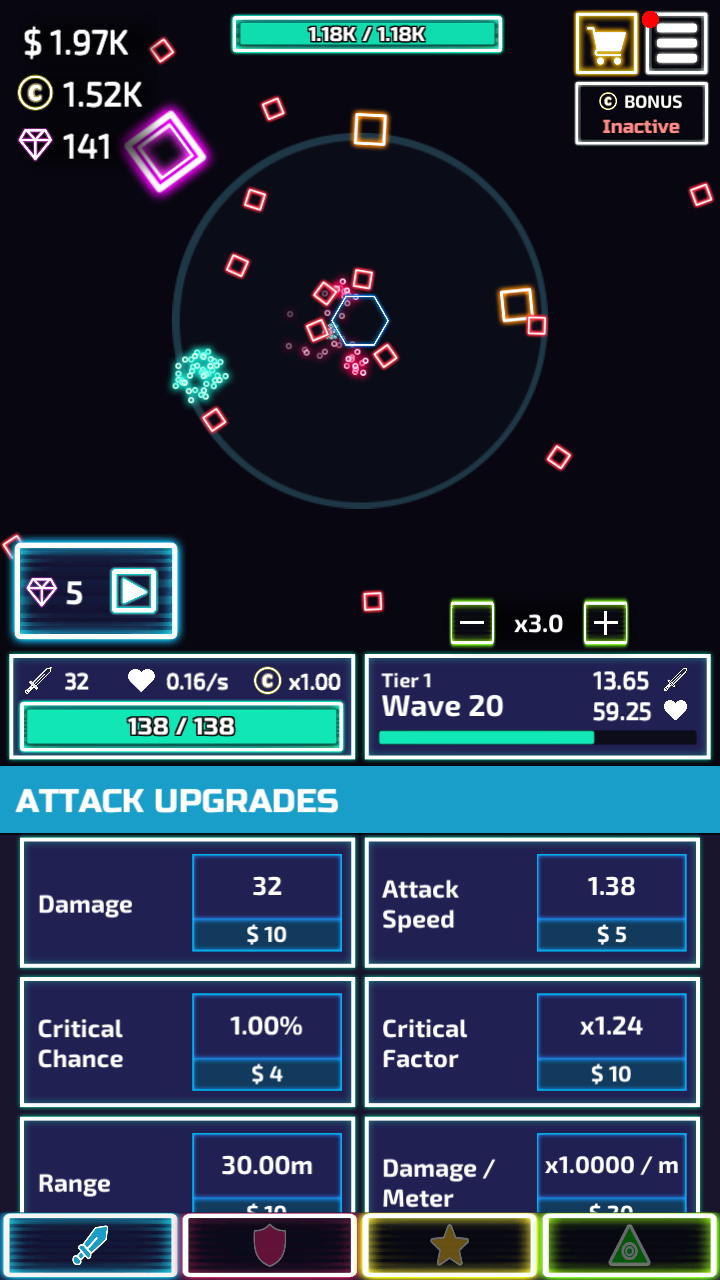B_Gem_Ad: (7, 539, 180, 639)
B_Menu_Action_Required: (634, 5, 703, 69)
B_Menu_Closed: (571, 9, 709, 69)
B_Slot: (365, 977, 696, 1102), (16, 838, 352, 961), (18, 979, 354, 1100), (367, 840, 693, 960), (367, 1114, 693, 1211), (21, 1118, 352, 1209)
B_Slot_Button: (534, 853, 685, 954), (187, 997, 340, 1093), (190, 856, 340, 949), (534, 995, 682, 1086), (532, 1132, 689, 1209), (189, 1139, 336, 1216)
B_Slot_Label: (369, 1145, 507, 1212), (27, 1006, 141, 1081), (370, 1006, 486, 1073), (376, 863, 474, 935), (27, 878, 150, 926), (25, 1159, 121, 1203)
B_Slot_Price: (571, 1054, 646, 1091), (575, 915, 636, 956), (228, 1056, 299, 1091), (230, 911, 290, 952)
B_Slot_Value: (532, 1141, 685, 1189), (196, 1141, 328, 1186), (561, 1002, 652, 1050), (210, 1004, 313, 1045), (564, 860, 643, 903), (226, 865, 297, 903)
B_Tab_Attack: (0, 764, 720, 828)
